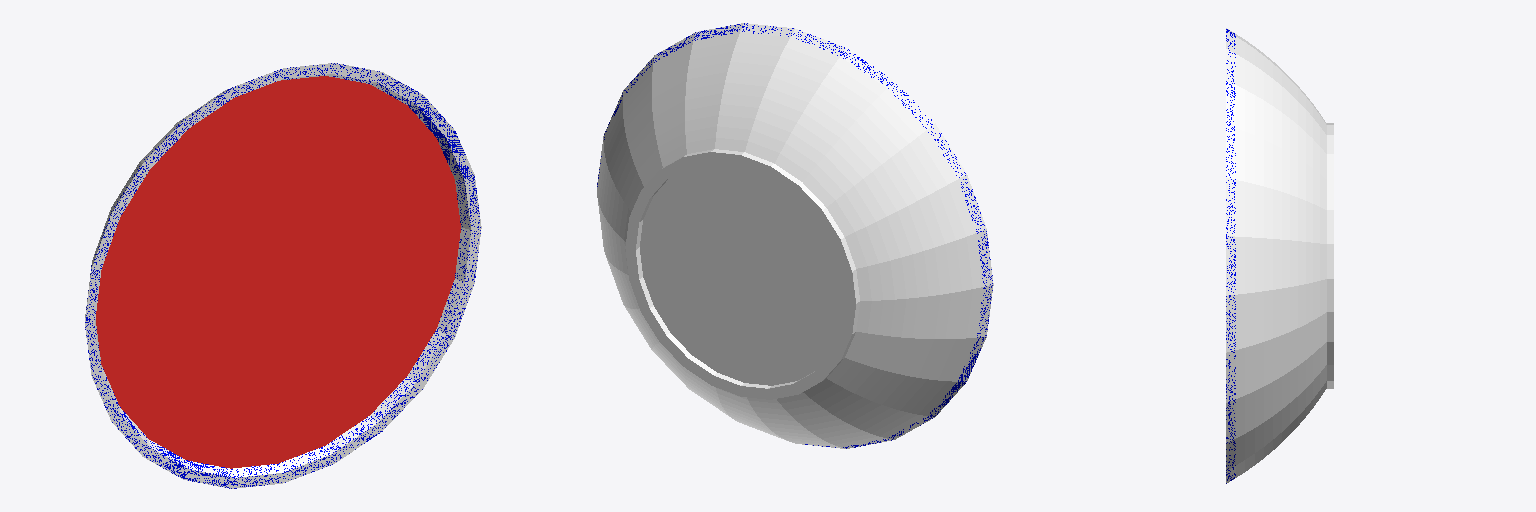
The model's file is model_align.obj.
3 renders of one model, left to right at view 1: azimuth 30°, elevation 25°; view 2: azimuth 150°, elevation 25°; view 3: azimuth 270°, elevation 25°, orthographic.
Bounding box in the file's own units: 0.1505 × 0.1505 × 0.0358.